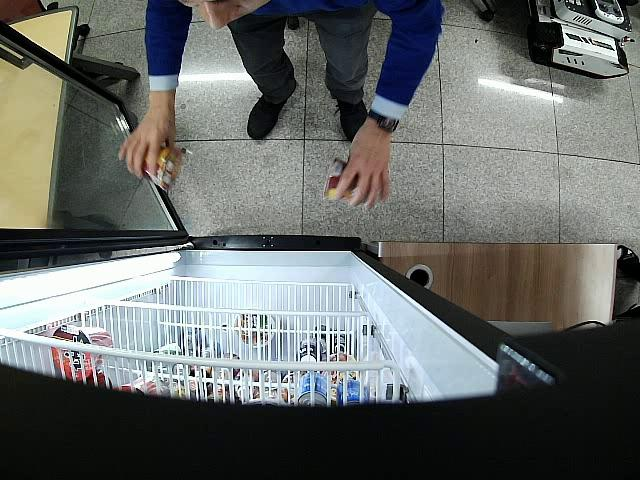00_hand: (334, 129, 389, 210), (118, 107, 175, 179)
06_nuguri_S: (141, 144, 182, 190), (324, 159, 358, 199)
